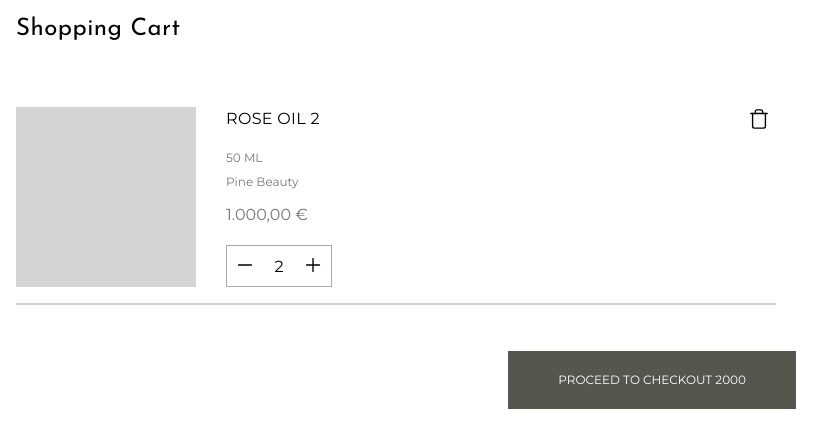
Scenario: CartPage actions › decreases item quantity without removing when quantity > 1
This screenshot has width=813, height=426.
Click the button named "decrease quantity": x=246, y=266 [228,252,262,280]
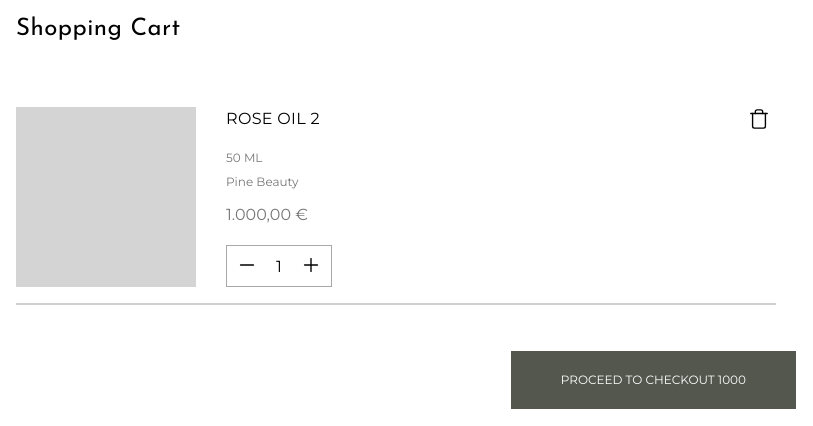
Expected: the text named "Quantity" reads "1", [276,256,282,276]
